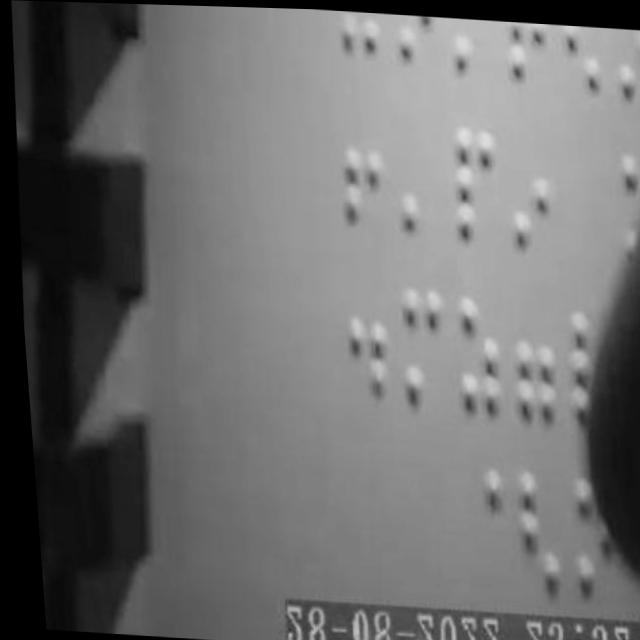braiile: (500, 466, 566, 599), (389, 279, 450, 408), (444, 292, 505, 416), (503, 301, 563, 425), (445, 115, 501, 247), (390, 117, 449, 238), (333, 280, 389, 403), (333, 106, 389, 229), (503, 134, 555, 254), (560, 22, 608, 98), (445, 14, 500, 75), (502, 19, 552, 83), (390, 11, 442, 65), (335, 8, 381, 66), (612, 24, 640, 103)
